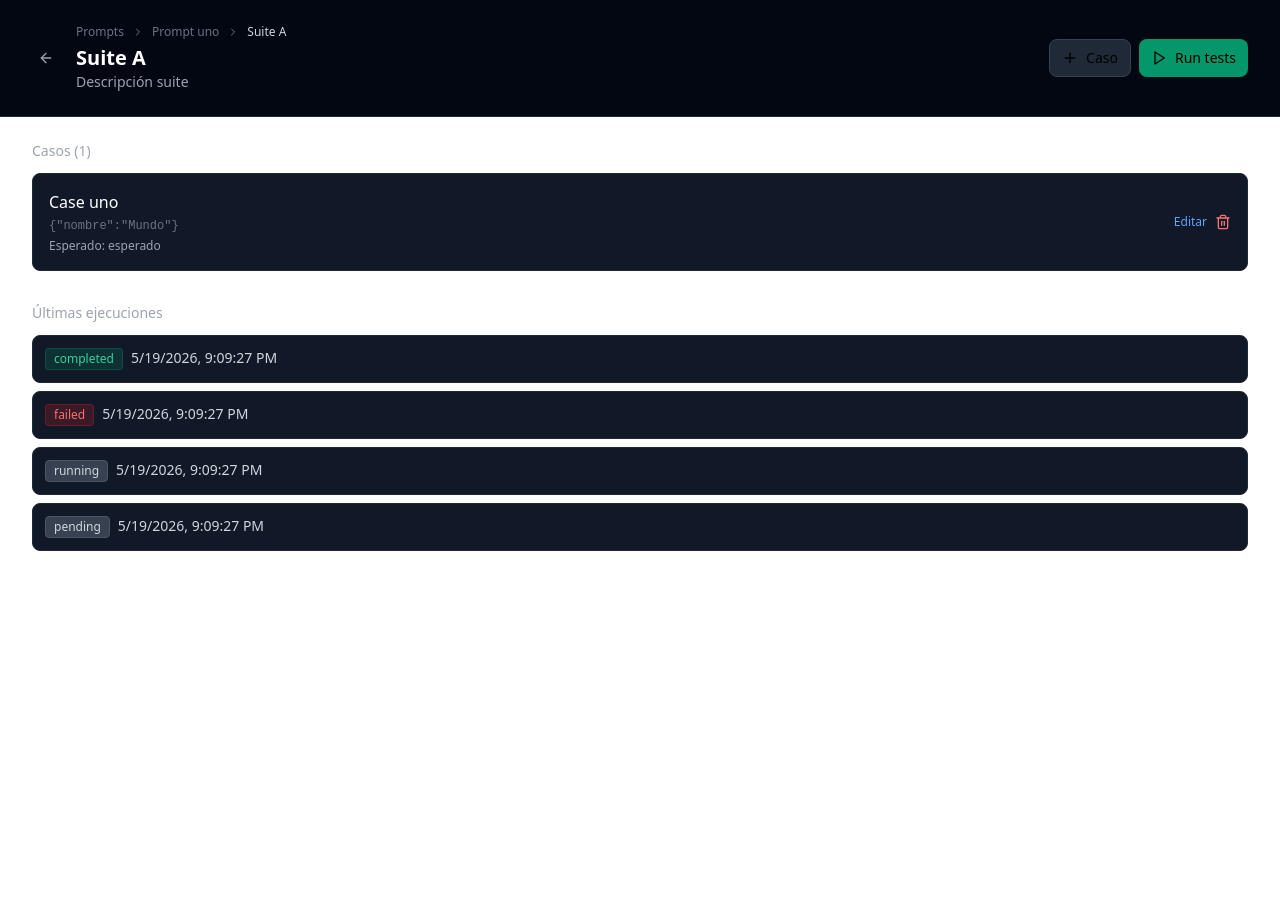
it: TestSuiteDetailPage › modal crear: guarda caso nuevo
The width and height of the screenshot is (1280, 900).
expect the heading "Suite A" is shown: met, box [76,44,146,71]
Click the button "Caso".
click(1090, 58)  # box [1049,39,1131,77]
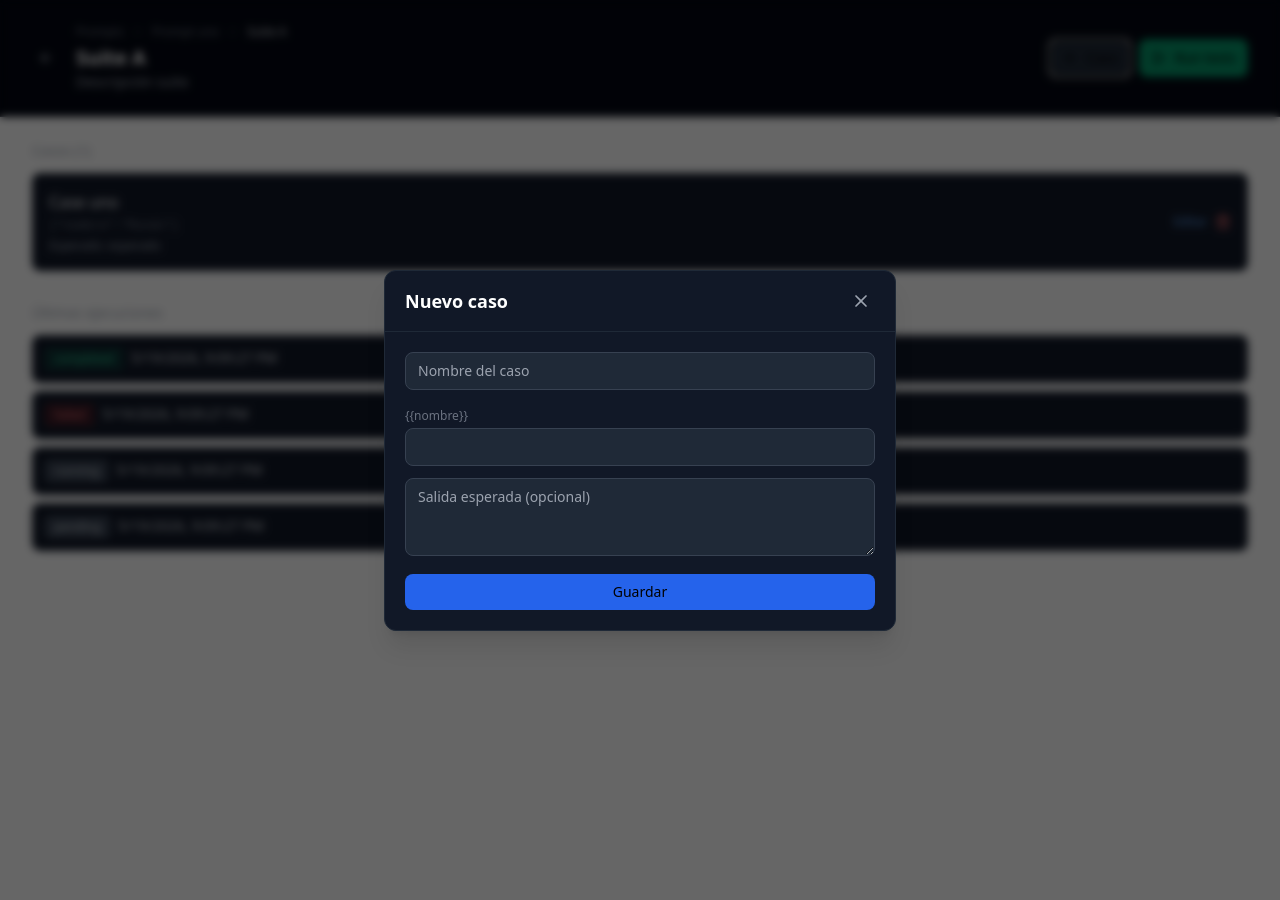
Type "Caso nuevo" into the field with placeholder "Nombre del caso".
click(640, 370); type("Caso nuevo")  # box [405,352,875,390]
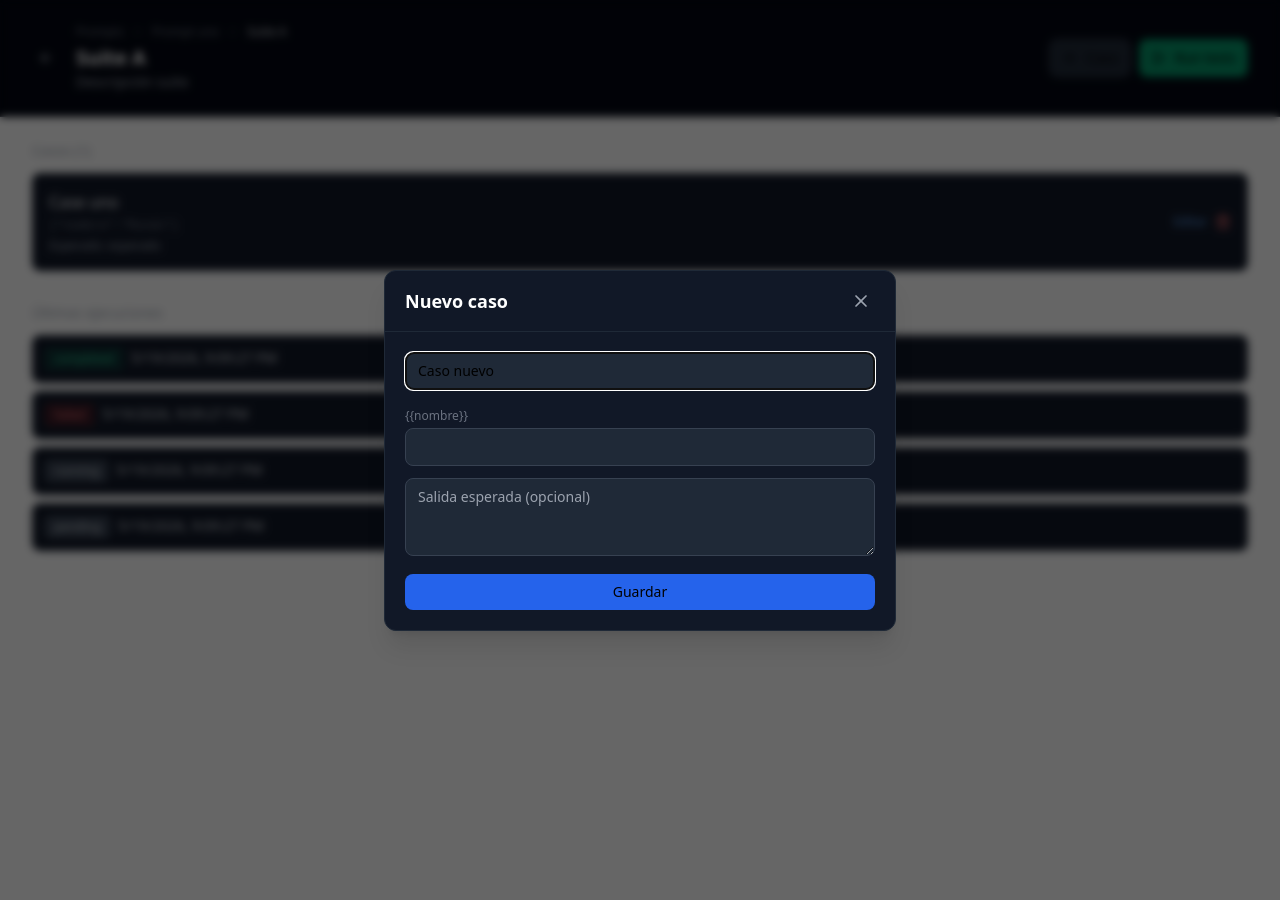
expect the field below "{{nombre}}" is shown: met
Type "valor" into the field below "{{nombre}}".
click(640, 446); type("valor")  # box [405,428,875,466]
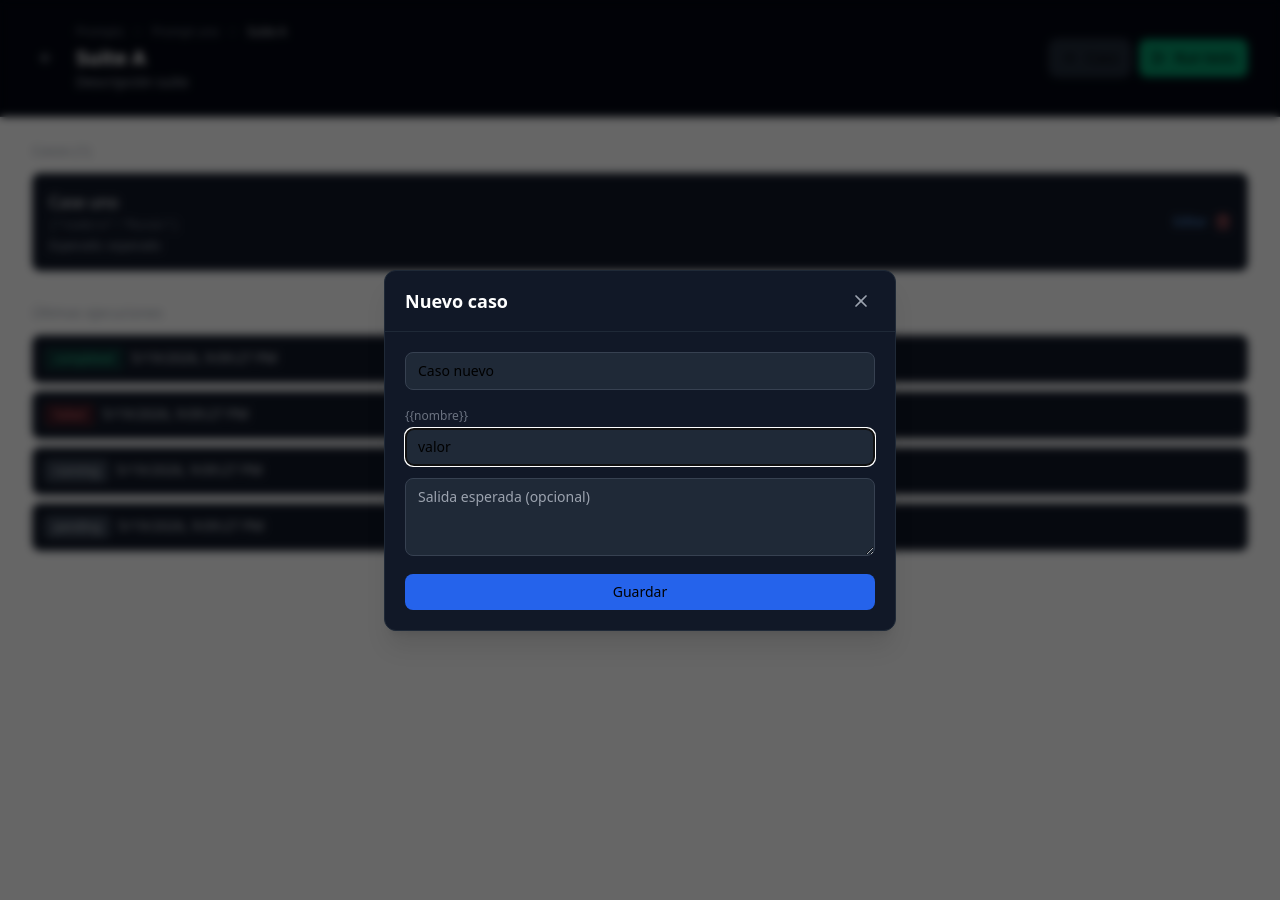
Click the button "Guardar".
click(640, 592)  # box [405,574,875,610]
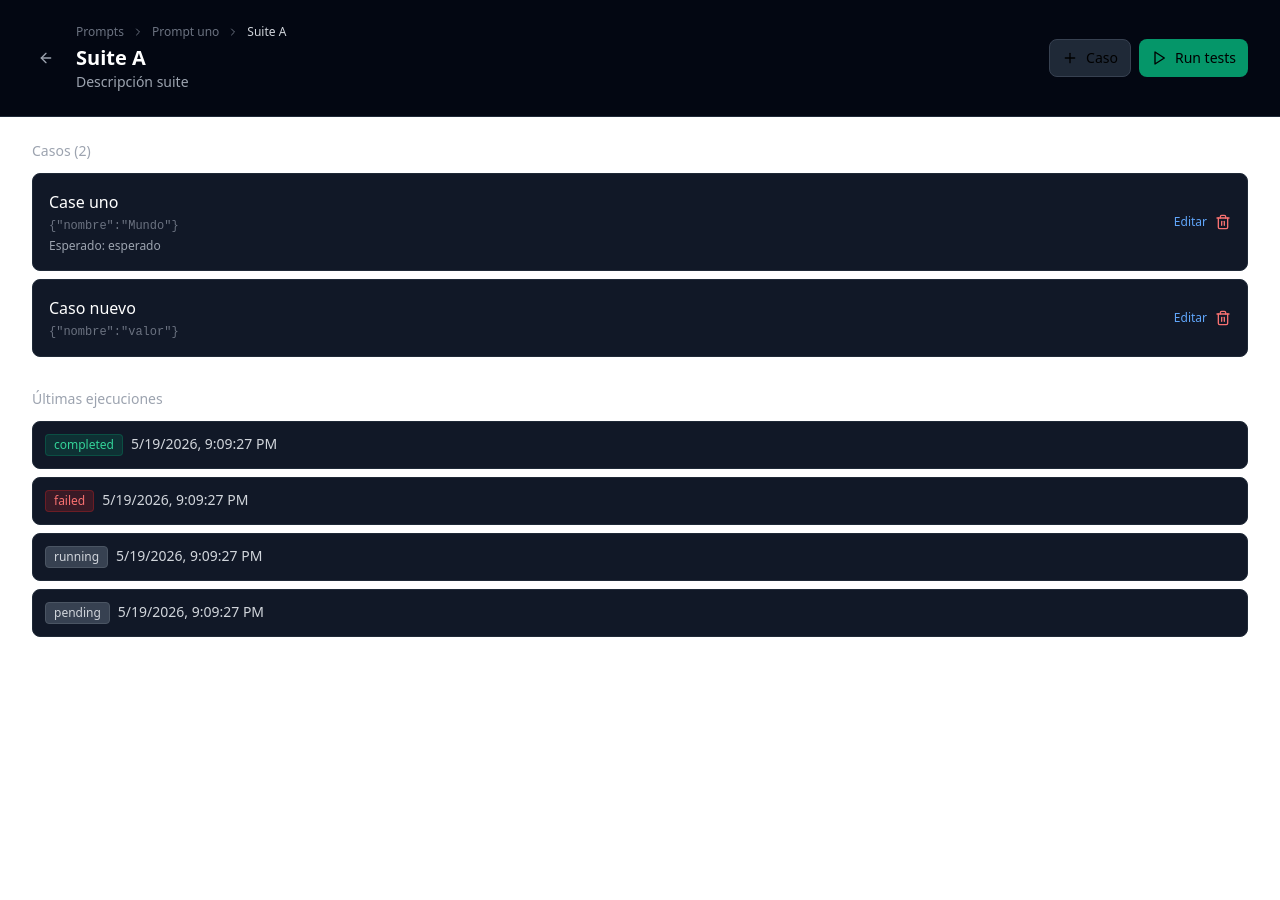
expect the dialog is gone: met
